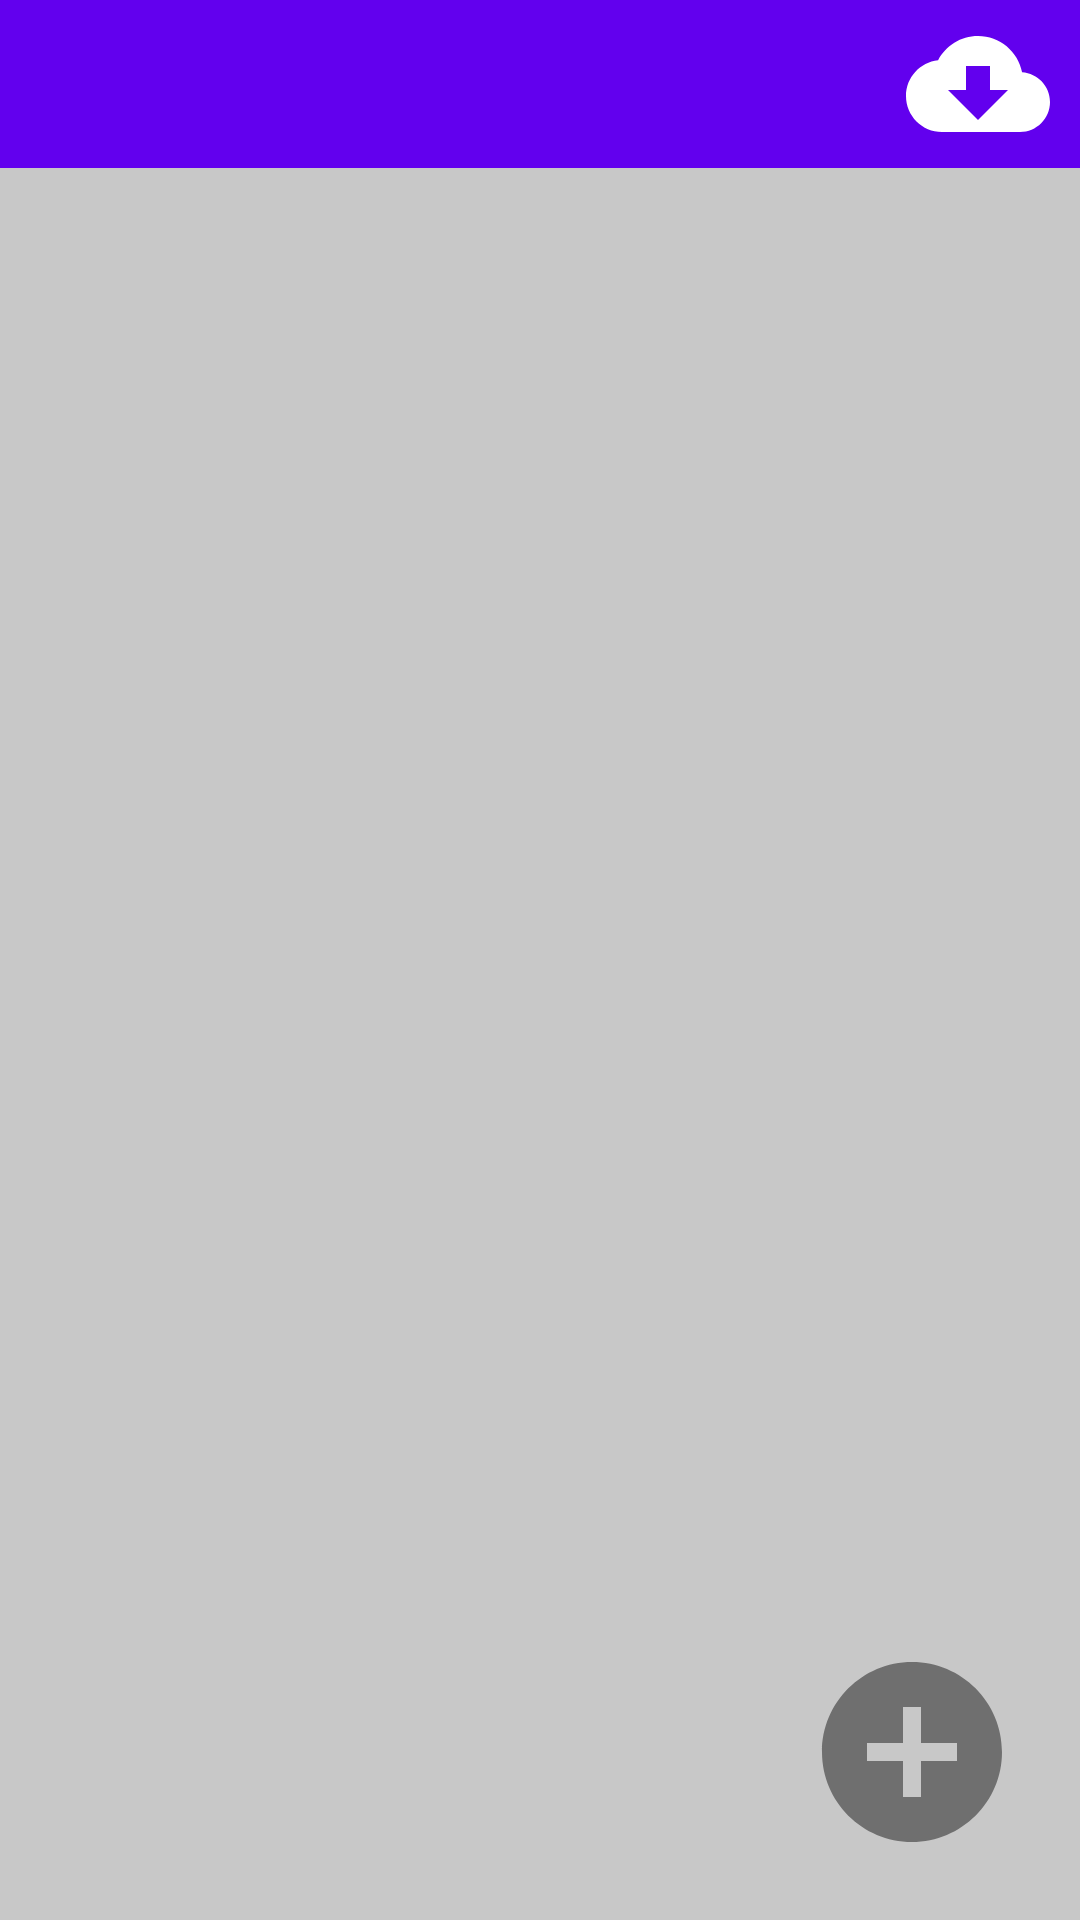

Named icons in this screenshot (1080x1920) and their centers, point (x, y):
add: point (912, 1752)
download: point (978, 84)
